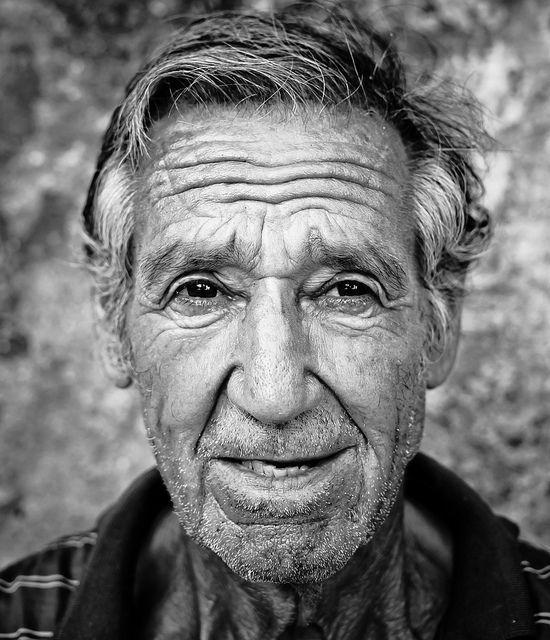chin: (233, 514, 327, 534)
crows_feet: (377, 278, 411, 330), (138, 293, 166, 323)
forehead: (163, 146, 251, 202), (326, 154, 390, 222), (266, 154, 318, 212)
frown_line: (247, 222, 271, 266)
gummy_smile: (194, 365, 230, 449), (320, 368, 364, 436)
